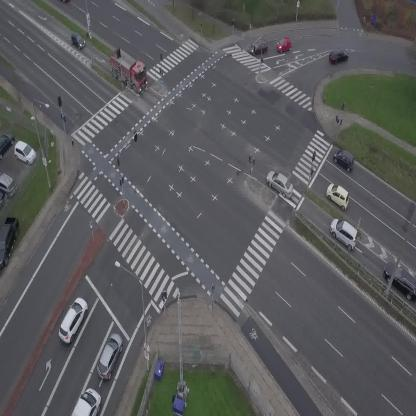car: (54, 294, 92, 346), (93, 331, 128, 381), (324, 214, 365, 252), (262, 167, 298, 200), (322, 180, 354, 211), (330, 146, 358, 172), (327, 46, 350, 65), (67, 31, 87, 51), (247, 38, 269, 56), (277, 37, 291, 52), (61, 0, 68, 2)
lorry: (101, 45, 155, 95), (71, 385, 105, 416)
